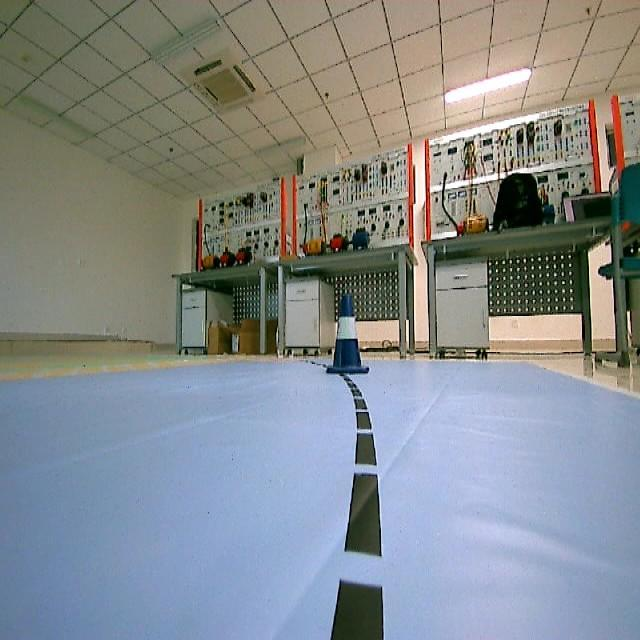obstacle: (310, 286, 374, 376)
